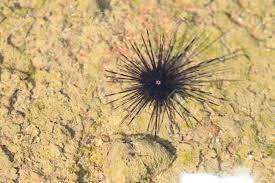urchin: (96, 27, 244, 142)
